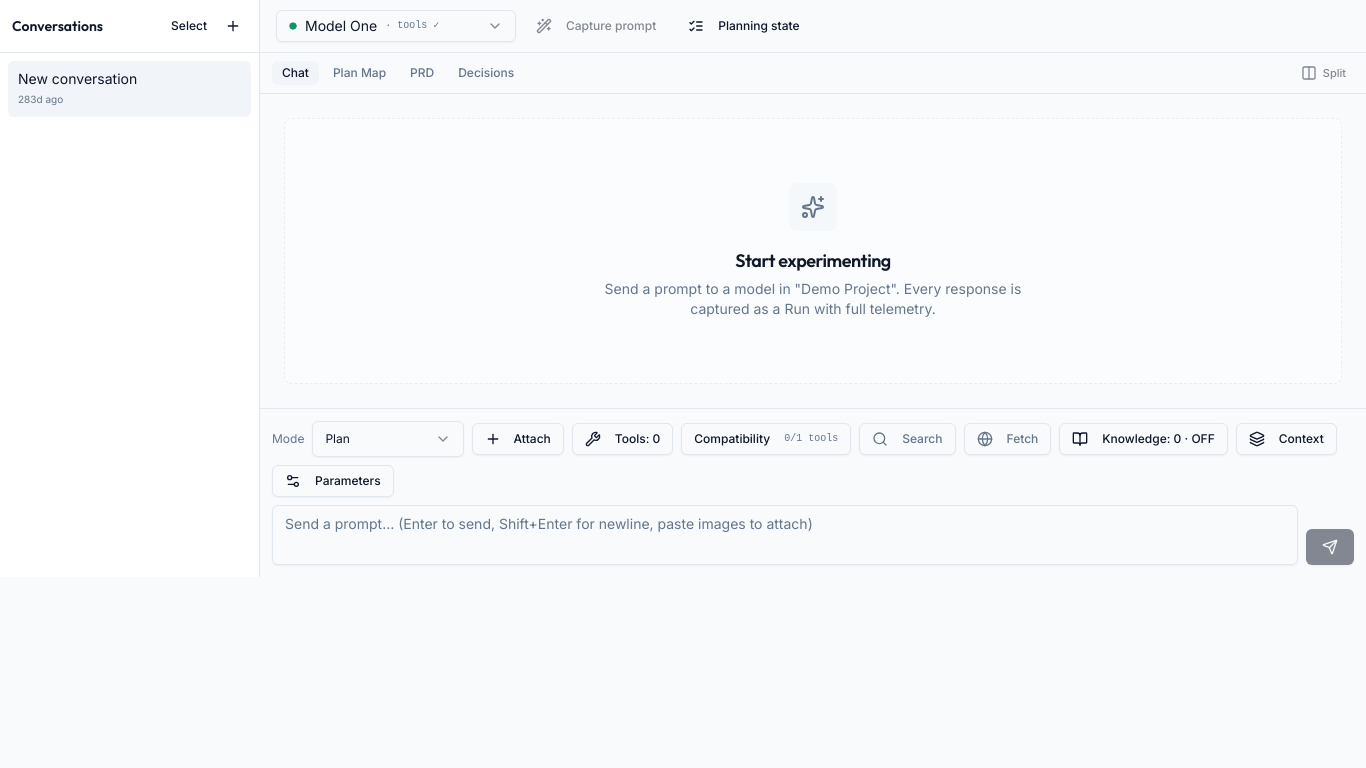
Scenario: changing mode persists it via PATCH /conversations/{id}
Click the dropdown with test id "workspace-mode-select" at (388, 439), box [312,421,464,457]
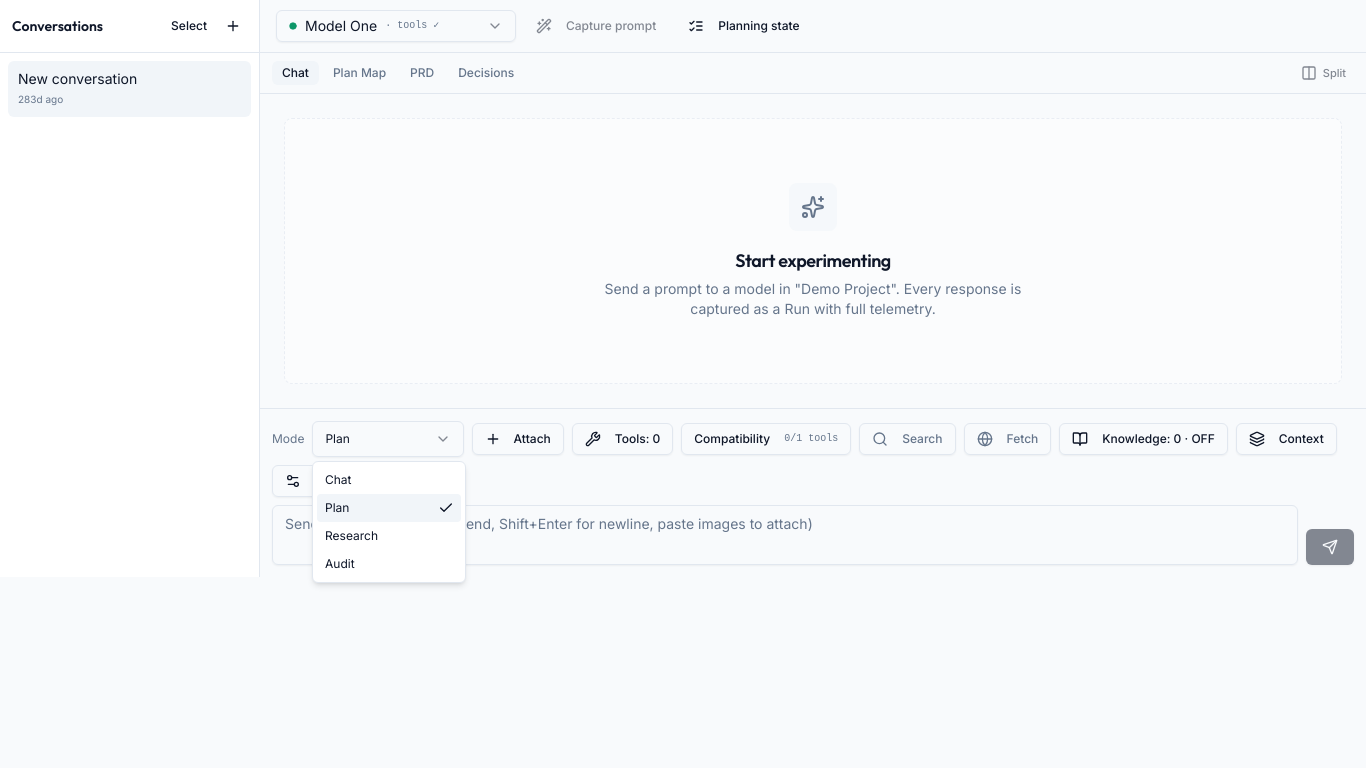
Now the option with test id "workspace-mode-option-audit" is shown
Click the option with test id "workspace-mode-option-audit" at (340, 564), box [325,556,355,571]
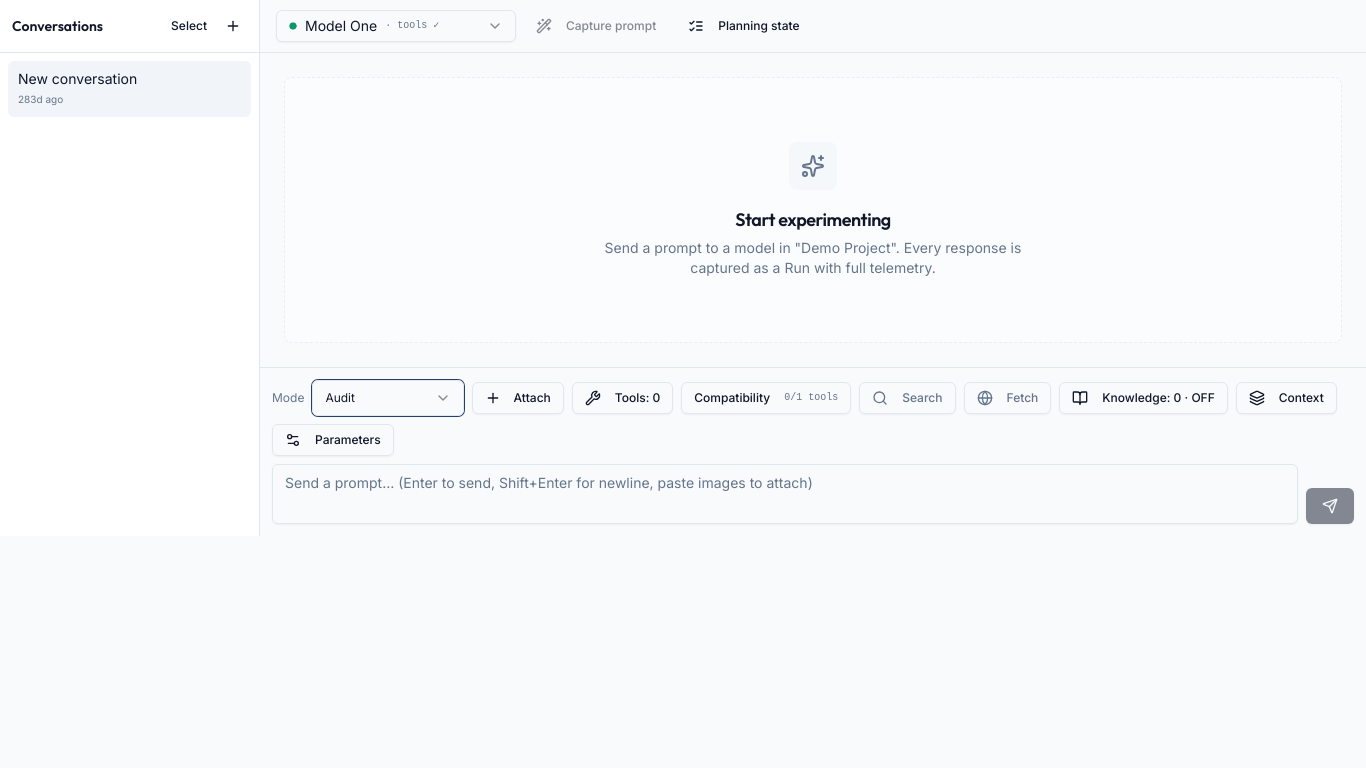
Now the dropdown with test id "workspace-mode-select" reads "Audit", box [312,380,464,416]
